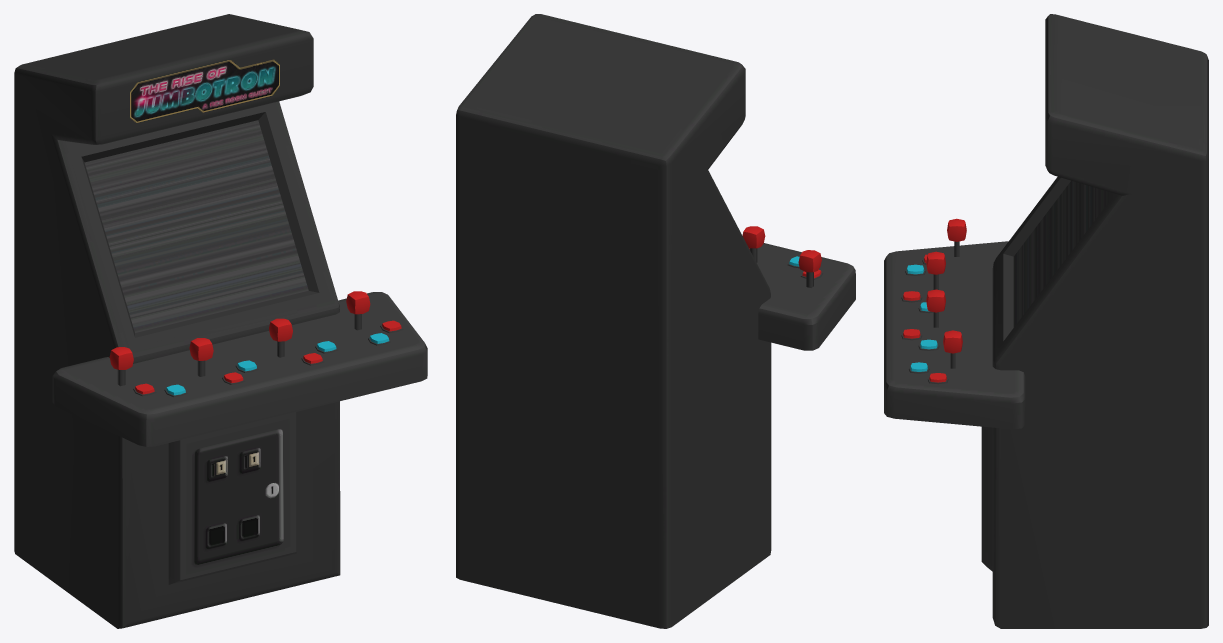
Rendered from arcade.glb.
3 renders of one model, left to right at view 1: azimuth 30°, elevation 25°; view 2: azimuth 150°, elevation 25°; view 3: azimuth 270°, elevation 25°, orthographic. The views are drawn at different scales.
Parts seen in each view (by area): view 1: ArcadeGame; view 2: ArcadeGame; view 3: ArcadeGame.
Boxes of the visible parts, bbox=[...] form: ArcadeGame: bbox=[14, 14, 427, 628]; ArcadeGame: bbox=[456, 14, 855, 628]; ArcadeGame: bbox=[884, 14, 1208, 628].
Size of the model in its own units: 1.34 by 2.02 by 1.16.
1 material, 1 textured.
